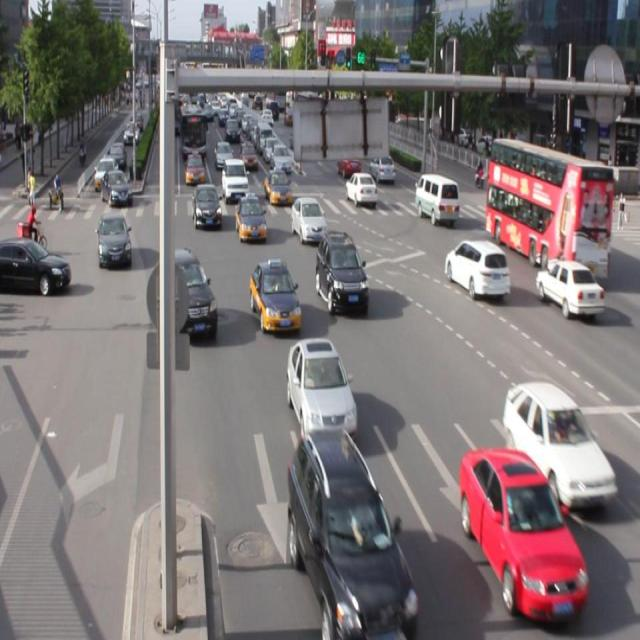car: (286, 428, 418, 640), (458, 446, 587, 620), (502, 378, 616, 507), (286, 336, 357, 439), (159, 247, 217, 342), (315, 228, 368, 312), (534, 257, 603, 315), (249, 258, 300, 333), (444, 239, 509, 297), (290, 194, 327, 242), (235, 194, 268, 241)
van: (485, 137, 608, 279)
